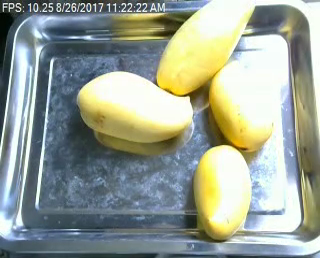Mango: (155, 0, 256, 95), (74, 71, 193, 143), (209, 61, 277, 150), (193, 144, 252, 242)
